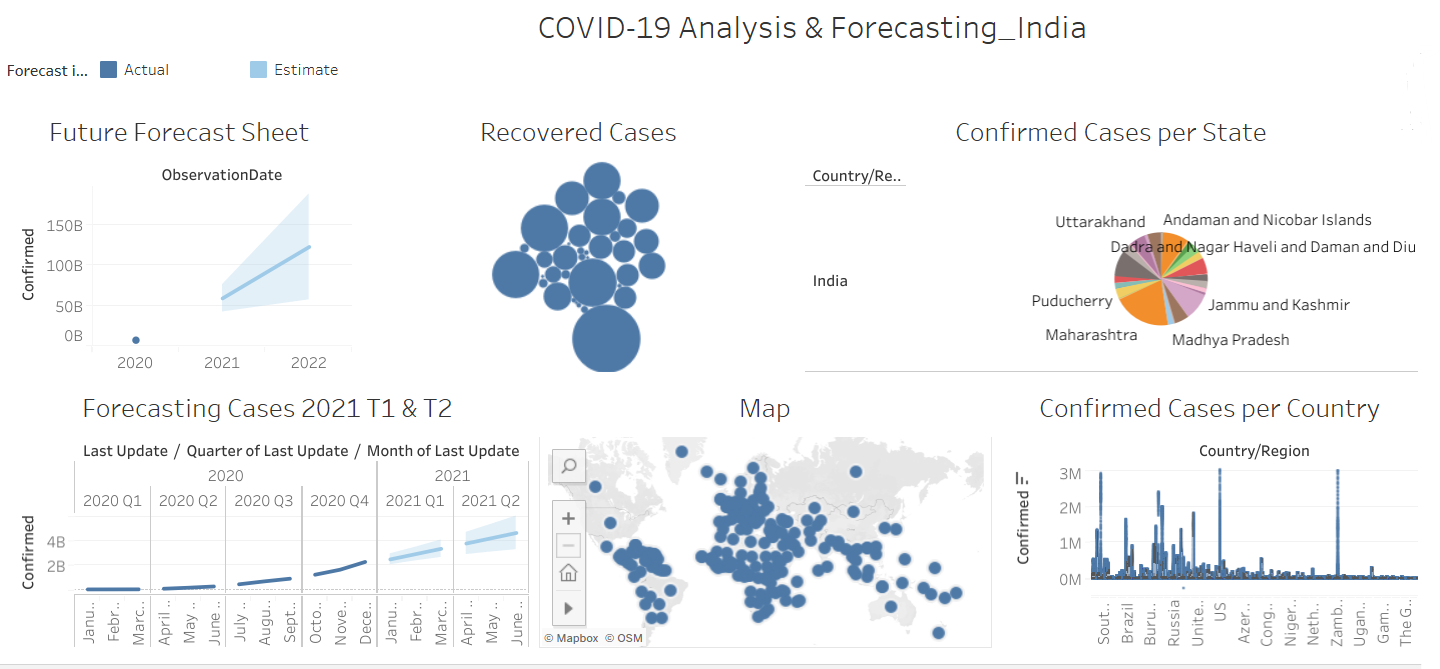

The page's visual inventory and layout, read from the dashboard file:
{"tool":"tableau","page":{"name":"Dashboard 1","canvas":[1000,1000],"units":"permille","ordinal":0},"visuals":[{"type":"title","box":[6.1,14.8,987.8,77.9]},{"type":"legend","title":"Sheet 6","param":"[federated.0kwcc8517y1v5p10hty1p10n5n6t].[none:Forecast Indicator:nk]","box":[6.1,92.8,866,71.8]},{"type":"filter","title":"Sheet 2","param":"[federated.0kwcc8517y1v5p10hty1p10n5n6t].[none:Country/Region:nk]","box":[872.1,92.8,121.9,307.1]},{"type":"worksheet","title":"Sheet 6","mark":"Automatic","rows":["Confirmed"],"cols":["ObservationDate"],"box":[6.1,164.6,216.5,410.3]},{"type":"worksheet","title":"Sheet 3","mark":"Circle","box":[222.6,164.6,270,410.3]},{"type":"worksheet","title":"Sheet 2","mark":"Pie","rows":["Country/Region"],"box":[492.6,164.6,379.5,410.3]},{"type":"legend","title":"Sheet 2","param":"[federated.0kwcc8517y1v5p10hty1p10n5n6t].[sum:Confirmed:qk]","box":[872.1,399.8,121.9,87.2]},{"type":"legend","title":"Sheet 2","param":"[federated.0kwcc8517y1v5p10hty1p10n5n6t].[none:Province/State:nk]","box":[872.1,487,121.9,307.1]},{"type":"worksheet","title":"Sheet 4","mark":"Automatic","rows":["Confirmed"],"cols":["Last Update","Last Update","Last Update"],"box":[6.1,574.9,324.5,410.3]},{"type":"worksheet","title":"Sheet 1","mark":"Automatic","box":[330.6,574.9,281.9,410.3]},{"type":"worksheet","title":"Sheet 5","mark":"Circle","rows":["Confirmed"],"cols":["Country/Region"],"box":[612.4,574.9,259.6,410.3]},{"type":"filter","title":"Sheet 3","param":"[federated.0kwcc8517y1v5p10hty1p10n5n6t].[none:Country/Region:nk]","box":[872.1,794.1,121.9,103.9]},{"type":"legend","title":"Sheet 3","param":"[federated.0kwcc8517y1v5p10hty1p10n5n6t].[none:Country/Region:nk]","box":[872.1,898,121.9,87.2]}]}

Visuals, with their boxes on the dashboard's canvas, which has no fixed pixel size, in thousandths of its width and height (x1, y1, x2, y2). These are canvas units, not pixel positions in the 1440x669 screenshot, which may show the page scaled, cropped or inside an application window:
title: bbox(6, 15, 994, 93)
"Sheet 6" legend: bbox(6, 93, 872, 165)
"Sheet 2" filter: bbox(872, 93, 994, 400)
"Sheet 6" worksheet: bbox(6, 165, 223, 575)
"Sheet 3" worksheet (Circle marks): bbox(223, 165, 493, 575)
"Sheet 2" worksheet (Pie marks): bbox(493, 165, 872, 575)
"Sheet 2" legend: bbox(872, 400, 994, 487)
"Sheet 2" legend: bbox(872, 487, 994, 794)
"Sheet 4" worksheet: bbox(6, 575, 331, 985)
"Sheet 1" worksheet: bbox(331, 575, 612, 985)
"Sheet 5" worksheet (Circle marks): bbox(612, 575, 872, 985)
"Sheet 3" filter: bbox(872, 794, 994, 898)
"Sheet 3" legend: bbox(872, 898, 994, 985)
